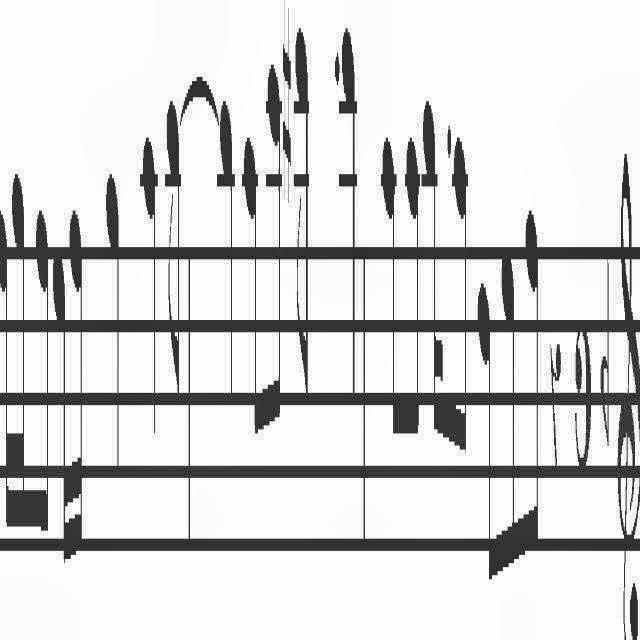Bass-clef: (615, 120, 640, 639), (639, 120, 640, 639)
Bemol: (602, 216, 614, 476)
Diez: (280, 0, 296, 212)
Eighth-note: (499, 207, 521, 581), (160, 64, 182, 432), (475, 246, 497, 594), (451, 97, 471, 456), (523, 190, 541, 582), (240, 122, 260, 472), (380, 119, 400, 464), (33, 194, 51, 562), (266, 46, 282, 454), (404, 112, 422, 460)
Eighth-rest: (549, 314, 565, 478)
Quarter-note: (340, 2, 362, 386), (294, 2, 316, 386), (102, 154, 126, 490), (139, 108, 159, 460), (217, 68, 235, 434)
Sixteenth-note: (10, 147, 30, 549), (70, 190, 86, 598), (423, 96, 441, 448), (52, 235, 68, 590), (0, 182, 12, 579)
